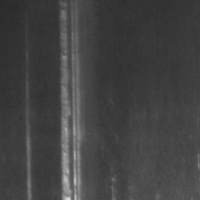scratches: (57, 1, 84, 200), (22, 58, 35, 200)
